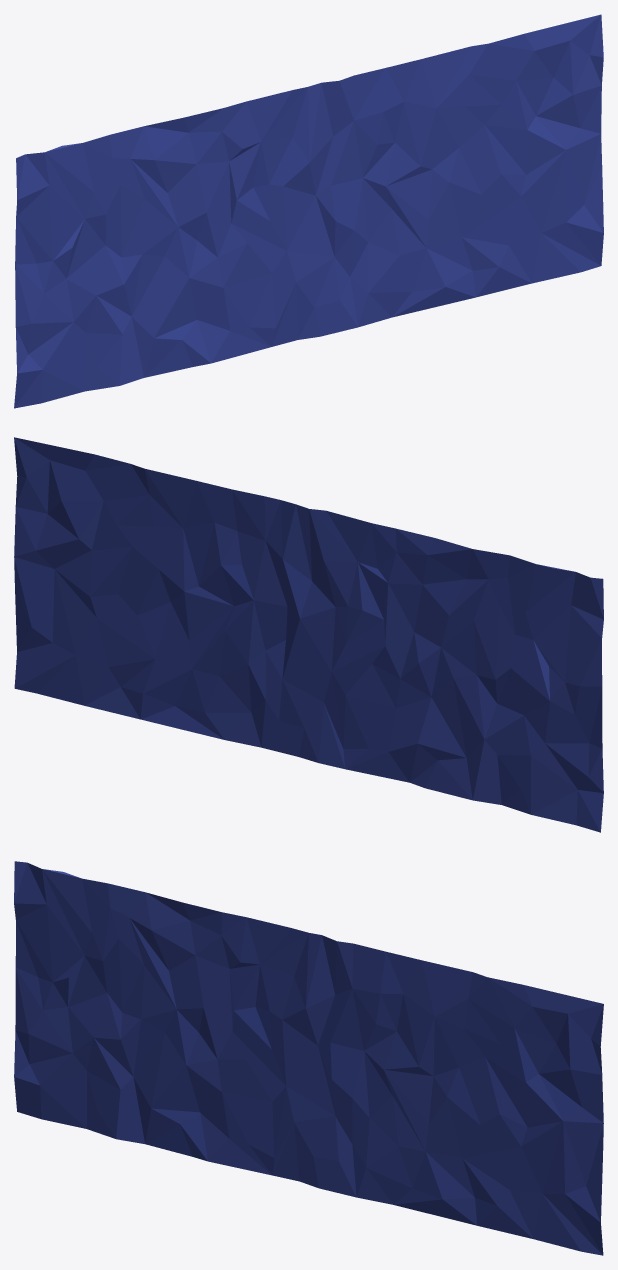
Rendered from frst2.obj.
The picture shows the model from 3 angles, top to bottom: view 1: azimuth 30°, elevation 25°; view 2: azimuth 150°, elevation 25°; view 3: azimuth 330°, elevation 25°; orthographic projection.
Parts seen in each view (by area): view 1: Plane.001_Plane.006; view 2: Plane.001_Plane.006; view 3: Plane.001_Plane.006.
Boxes of the visible parts, bbox=[...] form: Plane.001_Plane.006: bbox=[14, 14, 603, 408]; Plane.001_Plane.006: bbox=[14, 437, 603, 832]; Plane.001_Plane.006: bbox=[14, 861, 603, 1255].
Bounding box in the file's own units: 24.19 × 9.96 × 0.2609.
